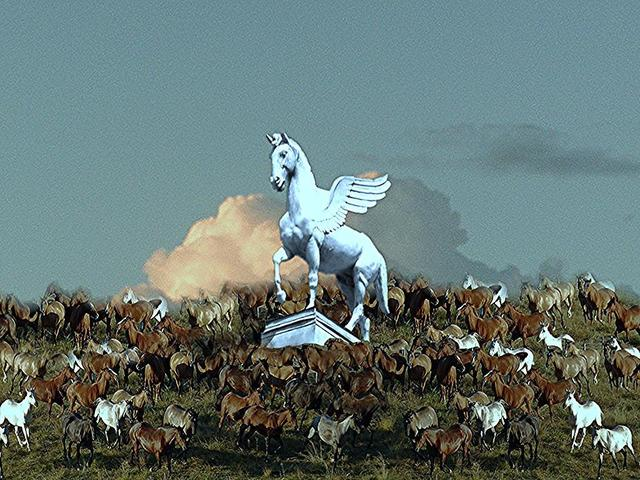horse: (234, 113, 400, 351)
